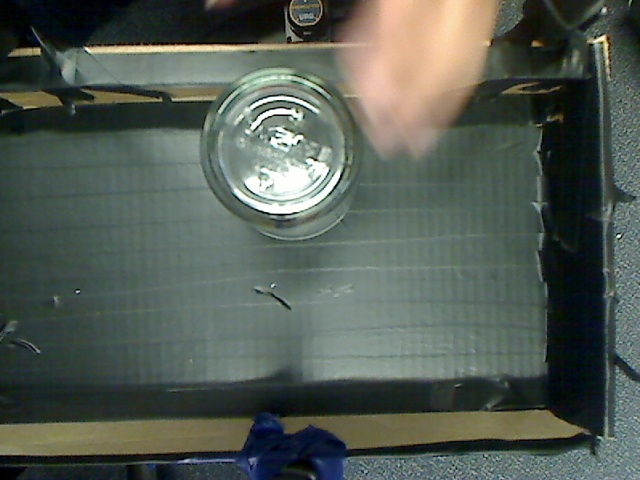cup: (187, 50, 387, 262)
